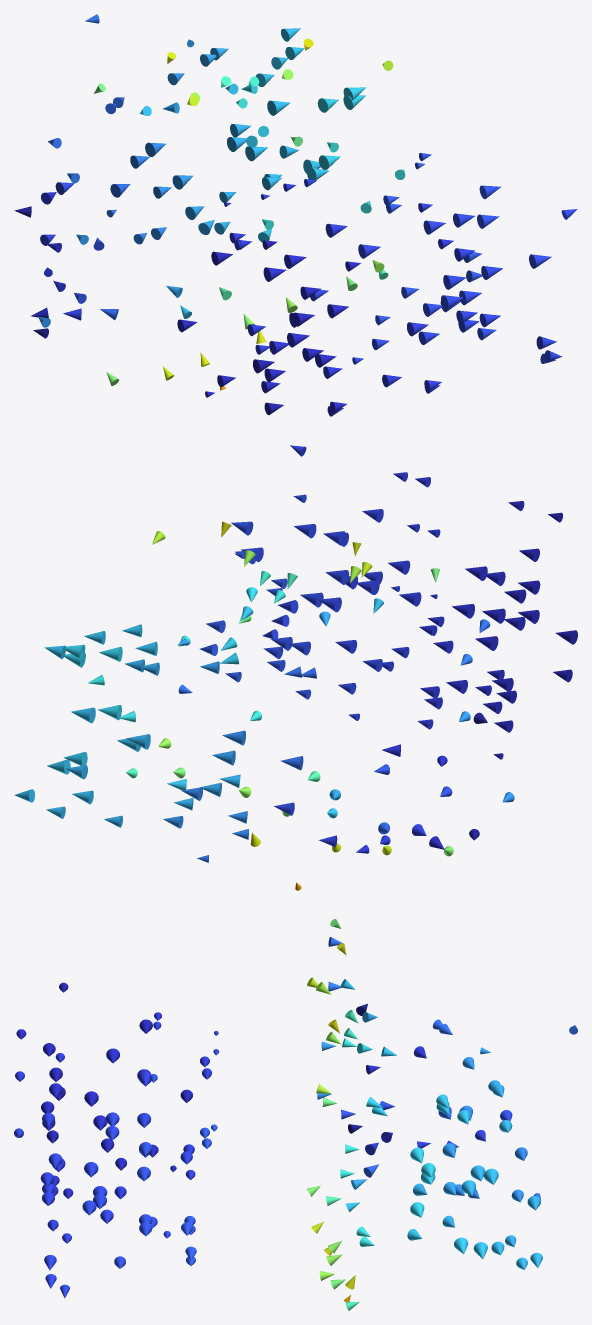
File: LineasCorrienteN2-H2O_mh2-2.70_V-1.glb
3 renders of one model, top to bottom at view 1: azimuth 30°, elevation 25°; view 2: azimuth 150°, elevation 25°; view 3: azimuth 270°, elevation 25°, orthographic. The views are drawn at different scales.
Size of the model in its own units: 0.000957 by 0.000824 by 0.00126.
2 materials, 2 textured.
